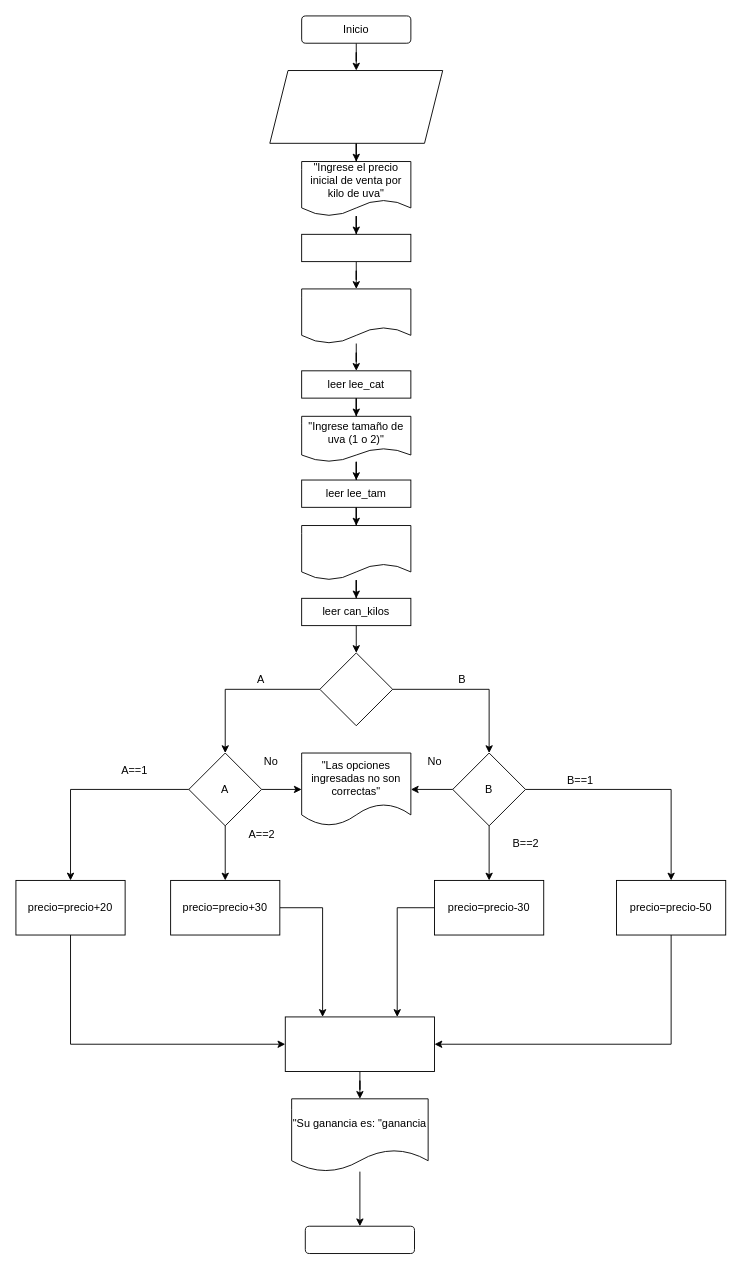
Image size: 742x1269. Some labels were removed from this diagram. The box of each missing label's shape, as (x1, y1, x2, y2) in pixels:
"Ingrese cantidad de kilos vendidos": (301, 525, 411, 580)
"Ingrese categoria de uva (A o B)": (301, 288, 411, 344)
char lee_cat integer lee_tam integer can_kilos integer precio integer ganancia: (269, 70, 443, 143)
fin: (304, 1225, 415, 1254)
ganancia=precio*cant_kilos: (284, 1016, 435, 1072)
leer precio: (301, 233, 411, 262)
¿A o B?: (319, 652, 393, 726)
